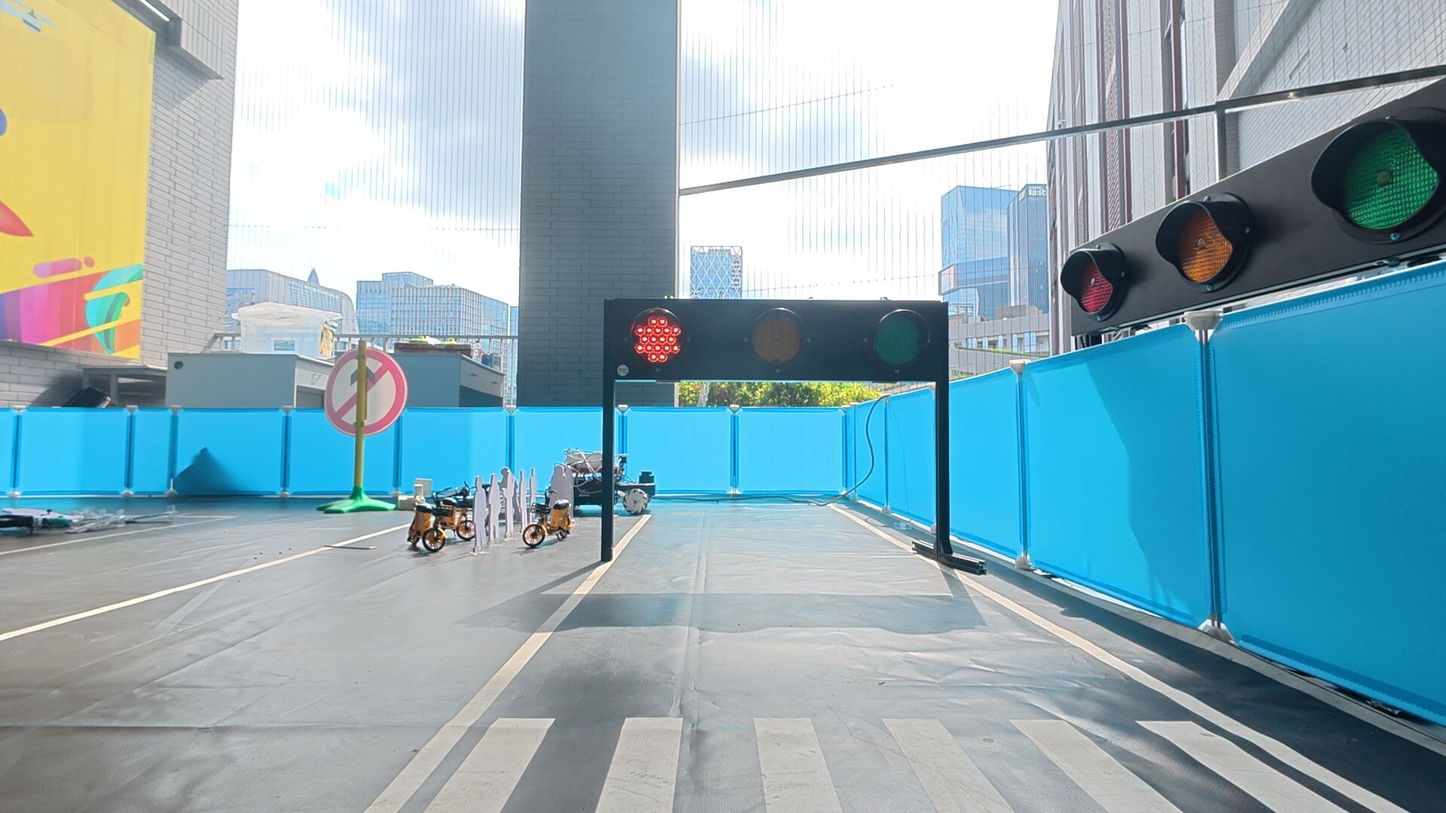stop: (630, 308, 686, 369)
